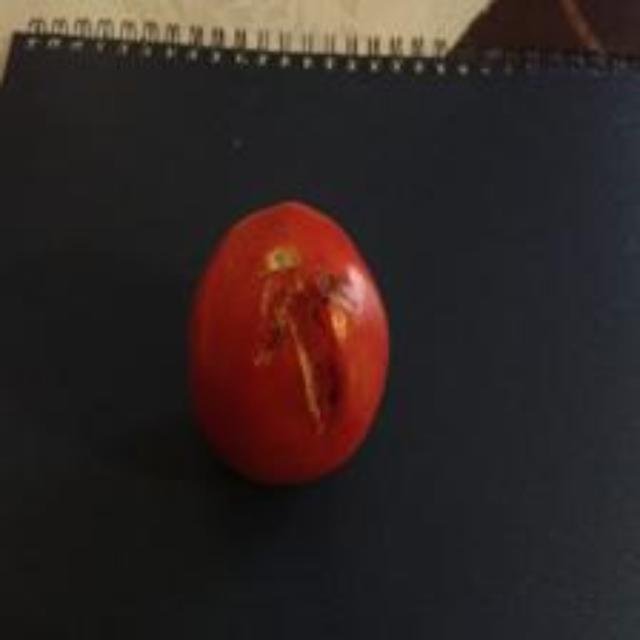defect: (182, 196, 394, 490)
